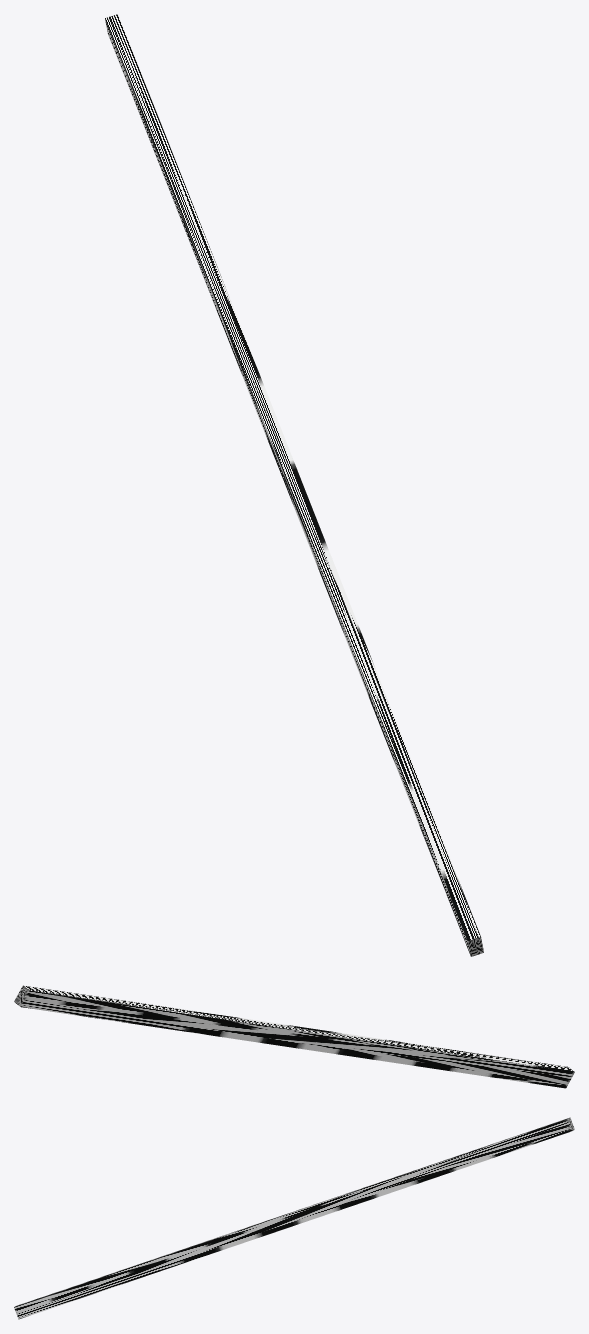
3 views of the same model, one above another, from view 1: azimuth 30°, elevation 25°; view 2: azimuth 150°, elevation 25°; view 3: azimuth 270°, elevation 25° (orthographic). The views are drawn at different scales.
Parts seen in each view (by area): view 1: Cube.036; view 2: Cube.036; view 3: Cube.036.
Boxes of the visible parts, x1,y1,x2,y2 form: Cube.036: [105, 14, 483, 956]; Cube.036: [14, 985, 574, 1088]; Cube.036: [14, 1117, 574, 1319].
Bounding box in the file's own units: 5.2 × 11.69 × 24.05.
1 material, 1 textured.
